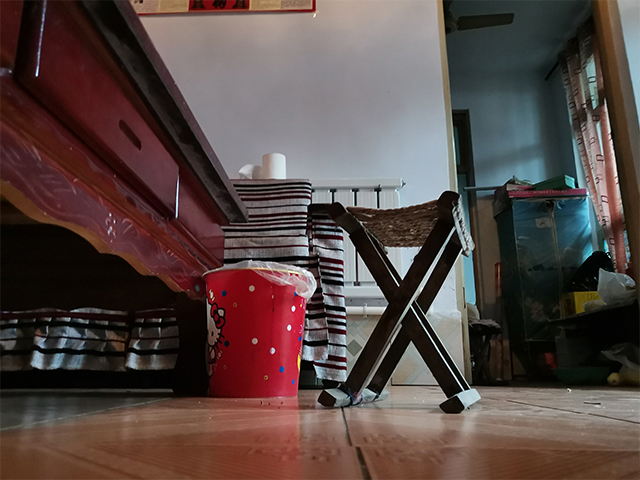stool: (316, 190, 483, 415), (465, 321, 510, 388)
table: (1, 1, 251, 400)
trashcan: (198, 257, 319, 401)
